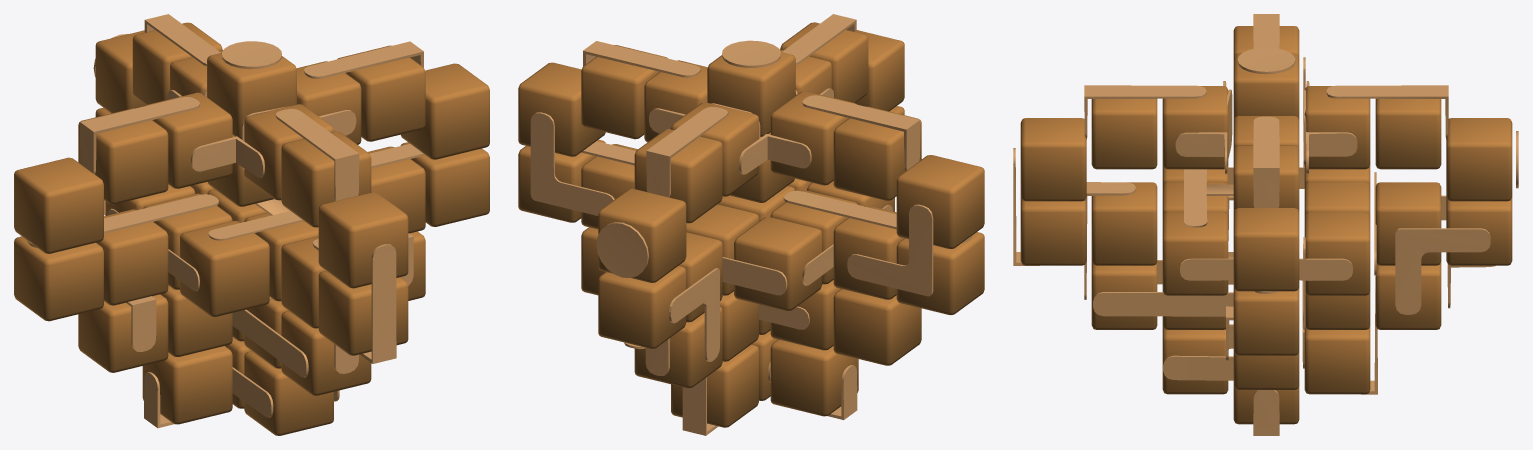
The model's file is level_125.fbx.
3 views of the same model, side by side, from view 1: azimuth 30°, elevation 25°; view 2: azimuth 150°, elevation 25°; view 3: azimuth 270°, elevation 25° (orthographic). The views are drawn at different scales.
Visible parts, largest first — view 1: Cube_L1_12.006, Cube_L1_12.022, Cube_L1_12.043, Cube_L1_12.005, Cube_L1_12.012, Cube_L1_12.007, Cube_L1_12.003, Cube_L1_12.011, Cube_L1_12.017, Cube_L1_12, Cube_L1_12.033, Cube_L1_12.009 (+38 smaller); view 2: Cube_L1_12.006, Cube_L1_12.025, Cube_L1_12.004, Cube_L1_12.044, Cube_L1_12.007, Cube_L1_12.003, Cube_L1_12.036, Cube_L1_12.011, Cube_L1_12.012, Cube_L1_12.009, Cube_L1_12.005, Cube_L1_12.024 (+40 smaller); view 3: Cube_L1_12.012, Cube_L1_12.022, Cube_L1_12.036, Cube_L1_12.028, Cube_L1_12.024, Cube_L1_12.034, Cube_L1_12.041, Cube_L1_12.026, Cube_L1_12.033, Cube_L1_12, Cube_L1_12.042, Cube_L1_12.039 (+33 smaller).
Part boxes in pixels (x1=…): Cube_L1_12.006: x1=14, y1=157, x2=103, y2=253; Cube_L1_12.022: x1=318, y1=192, x2=408, y2=288; Cube_L1_12.043: x1=180, y1=221, x2=269, y2=316; Cube_L1_12.005: x1=14, y1=236, x2=103, y2=321; Cube_L1_12.012: x1=401, y1=63, x2=489, y2=159; Cube_L1_12.007: x1=78, y1=108, x2=168, y2=204; Cube_L1_12.003: x1=142, y1=346, x2=232, y2=424; Cube_L1_12.011: x1=337, y1=45, x2=425, y2=141; Cube_L1_12.017: x1=96, y1=209, x2=168, y2=305; Cube_L1_12: x1=400, y1=142, x2=489, y2=226; Cube_L1_12.033: x1=318, y1=271, x2=408, y2=355; Cube_L1_12.009: x1=207, y1=53, x2=296, y2=139; Cube_L1_12.006: x1=896, y1=155, x2=984, y2=248; Cube_L1_12.025: x1=598, y1=265, x2=686, y2=348; Cube_L1_12.004: x1=833, y1=289, x2=921, y2=365; Cube_L1_12.044: x1=734, y1=217, x2=822, y2=310; Cube_L1_12.007: x1=833, y1=106, x2=921, y2=200; Cube_L1_12.003: x1=770, y1=339, x2=858, y2=416; Cube_L1_12.036: x1=598, y1=188, x2=686, y2=282; Cube_L1_12.011: x1=581, y1=45, x2=667, y2=139; Cube_L1_12.012: x1=518, y1=62, x2=605, y2=156; Cube_L1_12.009: x1=707, y1=52, x2=795, y2=136; Cube_L1_12.005: x1=896, y1=232, x2=984, y2=315; Cube_L1_12.024: x1=634, y1=129, x2=722, y2=223; Cube_L1_12.012: x1=1233, y1=208, x2=1299, y2=291; Cube_L1_12.022: x1=1020, y1=118, x2=1086, y2=201; Cube_L1_12.036: x1=1446, y1=118, x2=1512, y2=201; Cube_L1_12.028: x1=1091, y1=182, x2=1157, y2=265; Cube_L1_12.024: x1=1375, y1=99, x2=1441, y2=169; Cube_L1_12.034: x1=1091, y1=99, x2=1157, y2=169; Cube_L1_12.041: x1=1304, y1=212, x2=1370, y2=295; Cube_L1_12.026: x1=1304, y1=326, x2=1370, y2=394; Cube_L1_12.033: x1=1020, y1=197, x2=1086, y2=265; Cube_L1_12: x1=1233, y1=287, x2=1299, y2=355; Cube_L1_12.042: x1=1162, y1=212, x2=1228, y2=295; Cube_L1_12.039: x1=1375, y1=182, x2=1441, y2=265.
Size of the model in its own units: 15.13 by 11.19 by 15.56.
